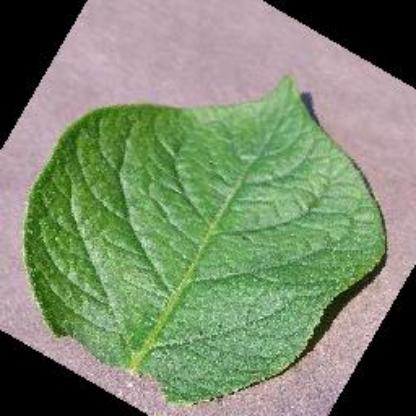Healthy-plant: (23, 72, 392, 402)
